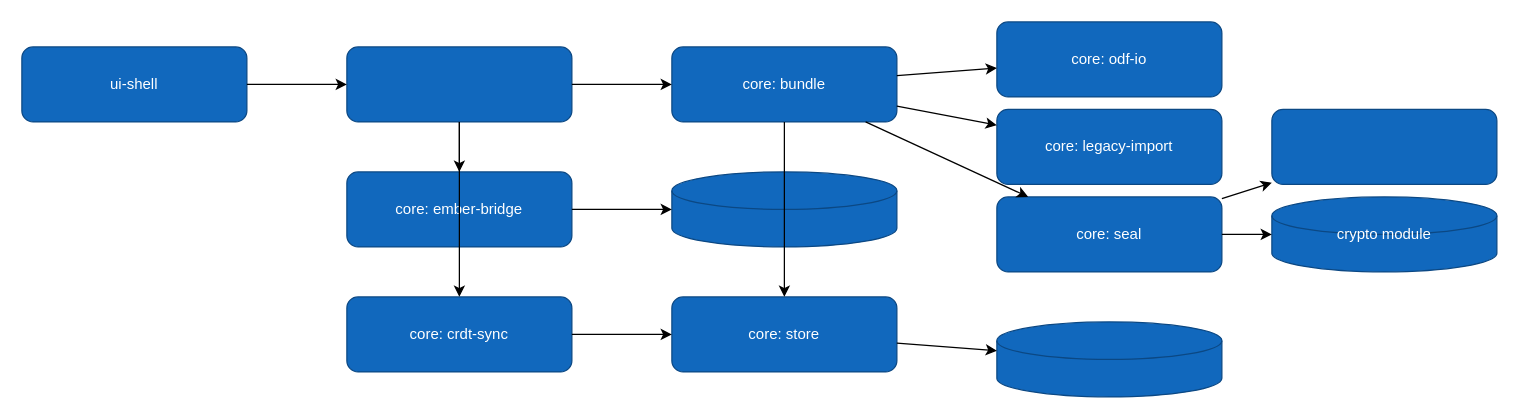
The diagram is 1519 pixels wide and 419 high, and some of its shapes have lost their labels. Here are the shapes that lost their labels. From the top down, the box of each, then its label:
(346, 46, 572, 122): core ffi/wasm
(1271, 108, 1497, 184): core: key-manager
(671, 171, 897, 247): ember runtime
(996, 321, 1222, 397): sqlite + vault
